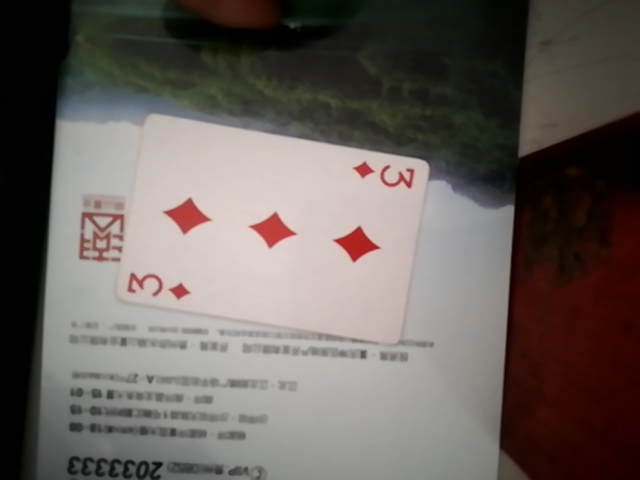fk 3: (104, 115, 437, 352)
